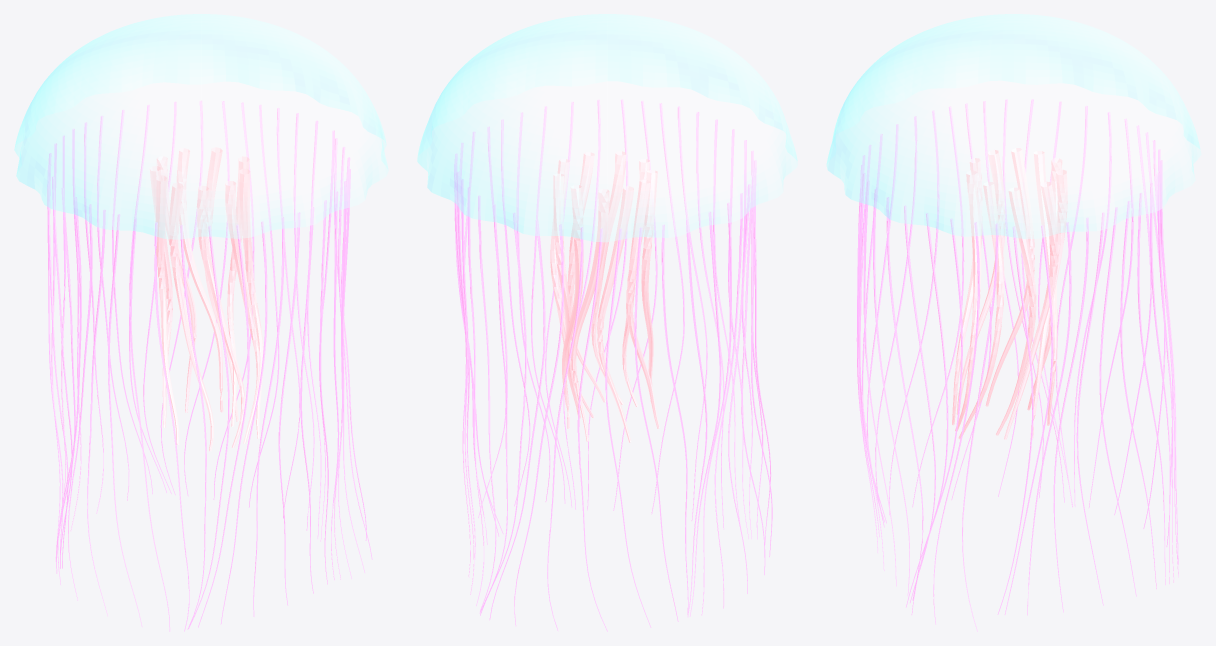
File: jellyfish_candidate.glb
3 views of the same model, side by side, from view 1: azimuth 30°, elevation 25°; view 2: azimuth 150°, elevation 25°; view 3: azimuth 270°, elevation 25° (orthographic).
Visible parts, largest first — view 1: reference_jellyfish_bell, reference_jellyfish_long_tentacles, reference_jellyfish_oral_arms; view 2: reference_jellyfish_bell, reference_jellyfish_long_tentacles, reference_jellyfish_oral_arms; view 3: reference_jellyfish_bell, reference_jellyfish_long_tentacles, reference_jellyfish_oral_arms.
Part boxes in pixels (<box>): reference_jellyfish_bell: <box>14,14,388,239</box>; reference_jellyfish_long_tentacles: <box>47,100,372,631</box>; reference_jellyfish_oral_arms: <box>150,147,263,451</box>; reference_jellyfish_bell: <box>417,14,797,242</box>; reference_jellyfish_long_tentacles: <box>454,99,772,631</box>; reference_jellyfish_oral_arms: <box>550,151,659,442</box>; reference_jellyfish_bell: <box>826,14,1201,238</box>; reference_jellyfish_long_tentacles: <box>856,99,1178,631</box>; reference_jellyfish_oral_arms: <box>952,148,1067,439</box>.
Bounding box in the file's own units: 2.62 × 4.01 × 2.62.
